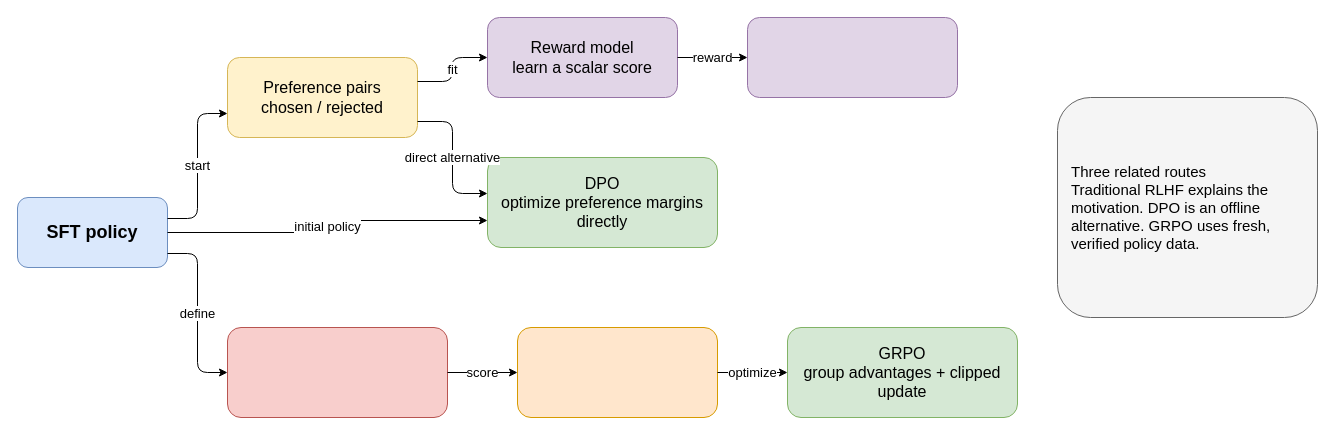
Image size: 1335x435. Some labels were removed from this diagram. The shapes that lost their labels are listed below. From the top down, each one's centre as x and y in pixels, then its label:
At point 852,57: "PPO online policy optimization".
At point 337,372: "Verifier contract fixed before rollout collection".
At point 617,372: "Fresh rollouts exact actions + rewards".
